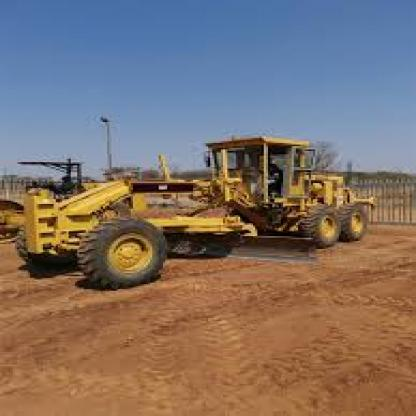bull_dozer/loader/grader: (13, 112, 392, 291)
